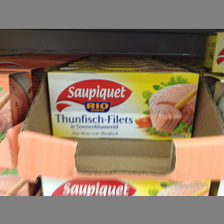fish: (46, 67, 202, 139)
